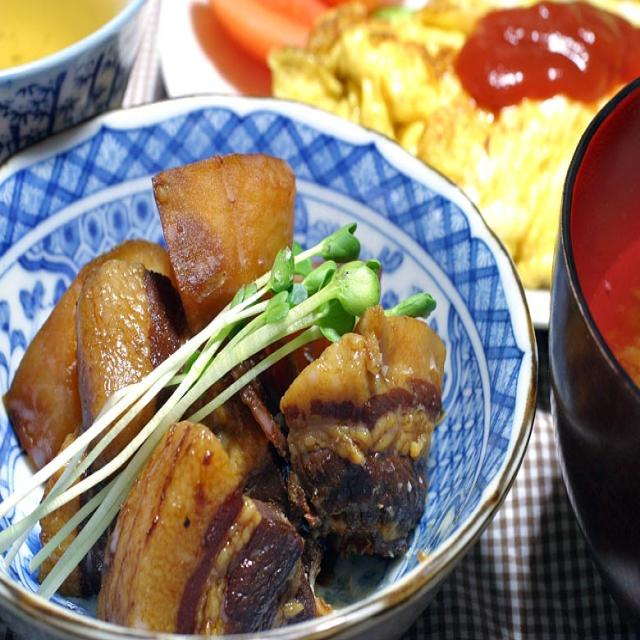猪肉菜式: (0, 83, 541, 640)
